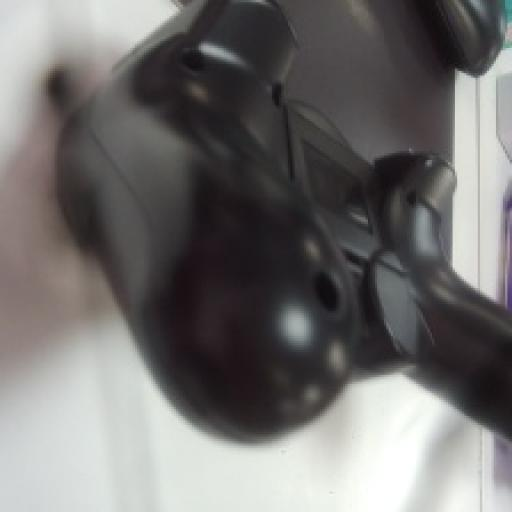game pad: (57, 2, 510, 439)
